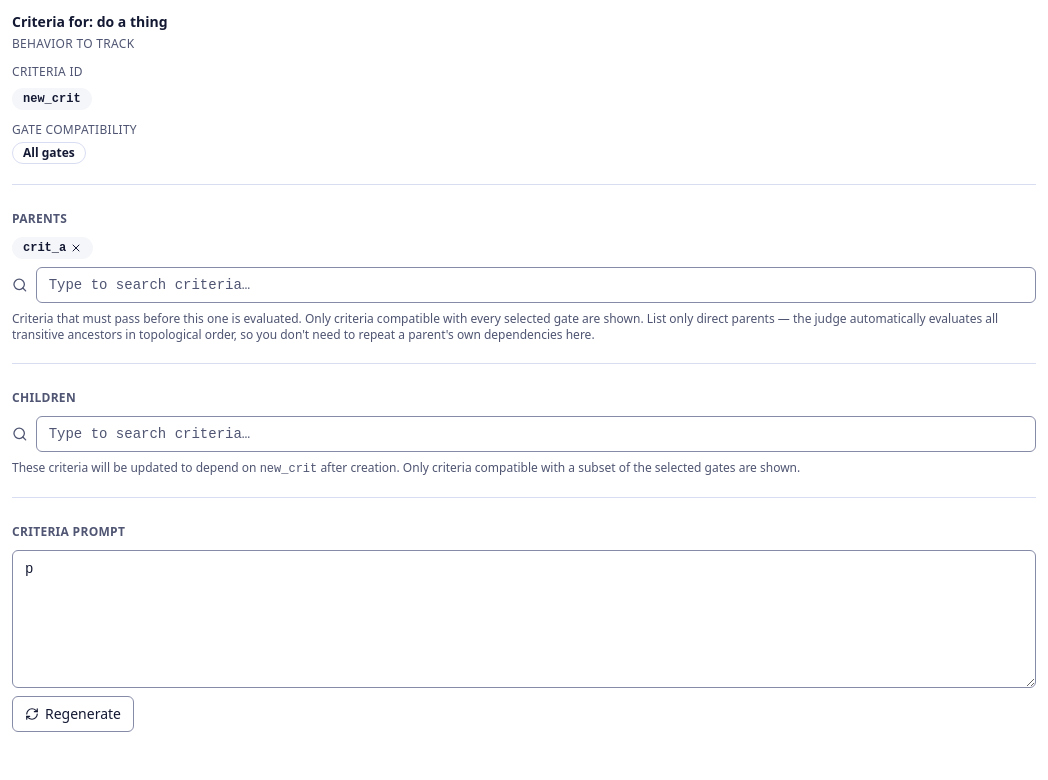
Test case: CriteriaWizardStep2 — parent/child cross-exclusion › does not offer a parent-selected criterion in the Children picker
Step 1. Focus the field with placeholder "Type to search criteria…" below "Children" → {"x": 536, "y": 434}, box [36,416,1036,452]
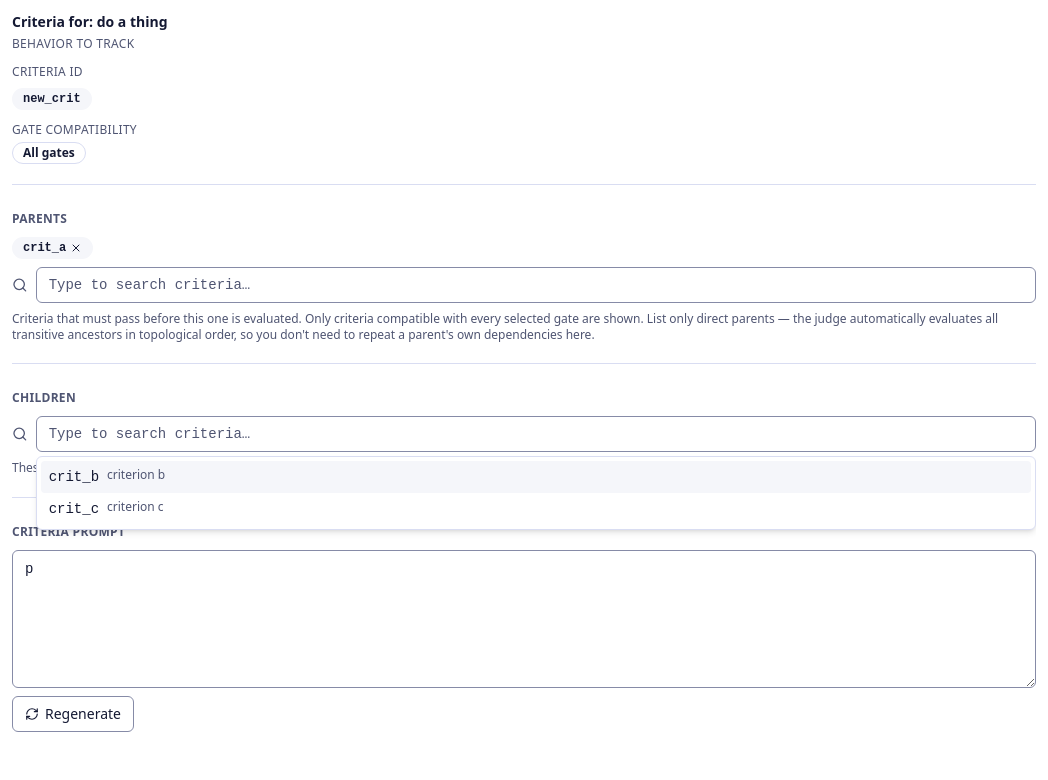
Expected: the text "crit_a" is not shown
Expected: the text "crit_b" is shown, [49,467,99,487]
Expected: the text "crit_c" is shown, [49,499,99,519]
